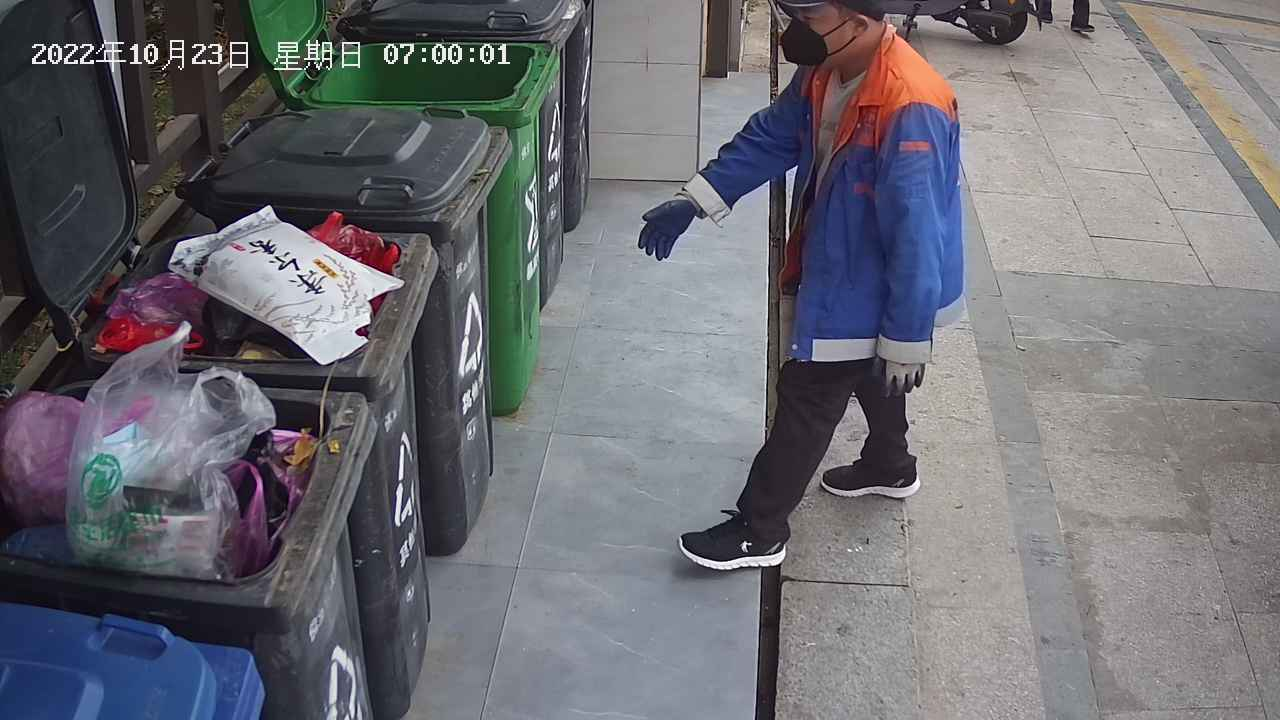worker: (630, 1, 974, 579)
